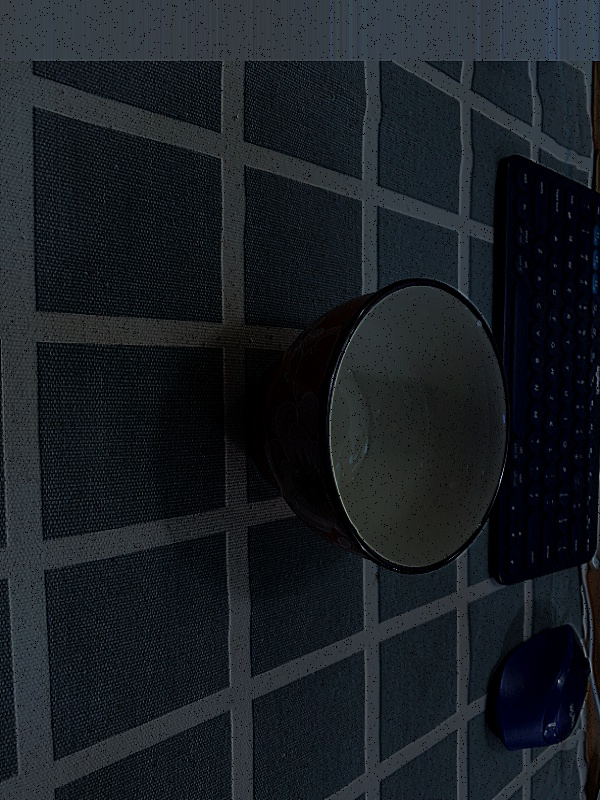bowl_small: (238, 273, 516, 583)
